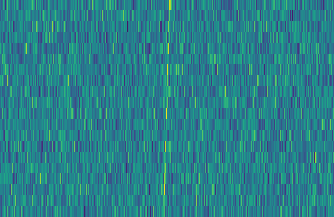signal: (158, 0, 173, 217)
